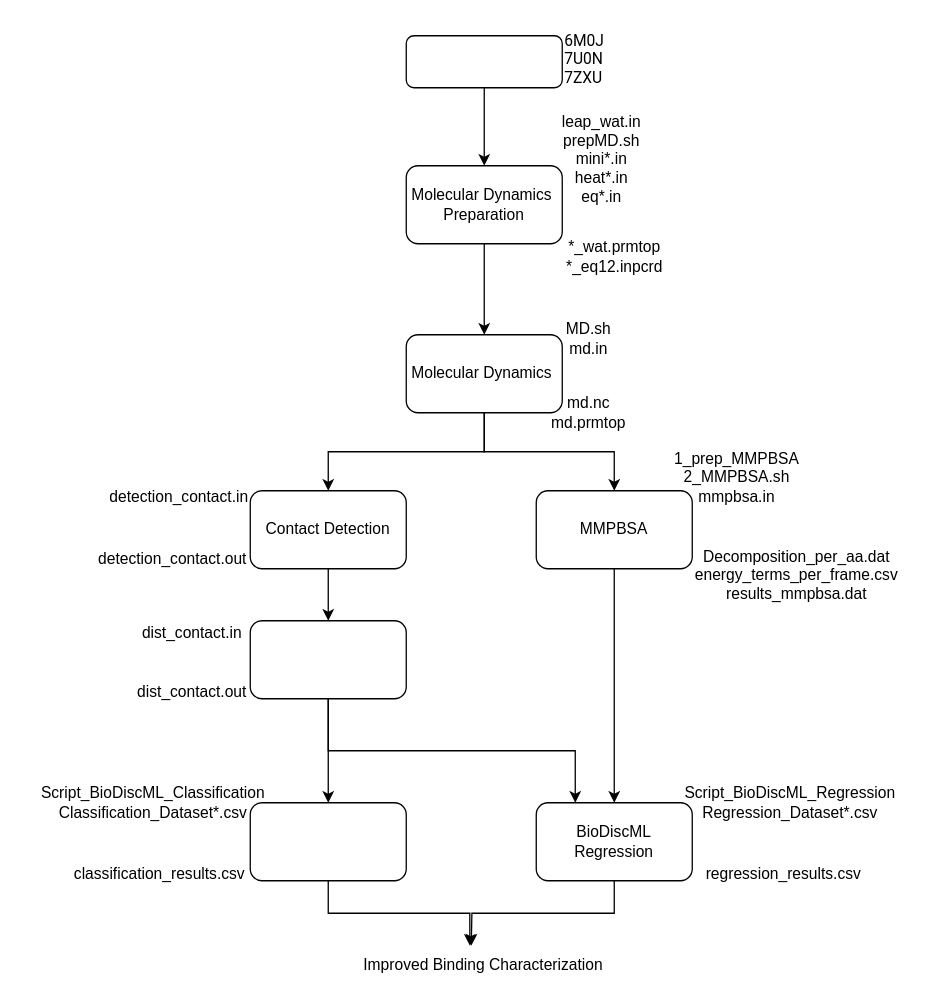
The diagram is 935 pixels wide and 1006 high, and some of its shapes have lost their labels. The centre of each missing label's shape, as x and y in pixels:
BioDiscML Classification: the point at 327,841
Contact Distances: the point at 327,659
Structure: the point at 483,61
